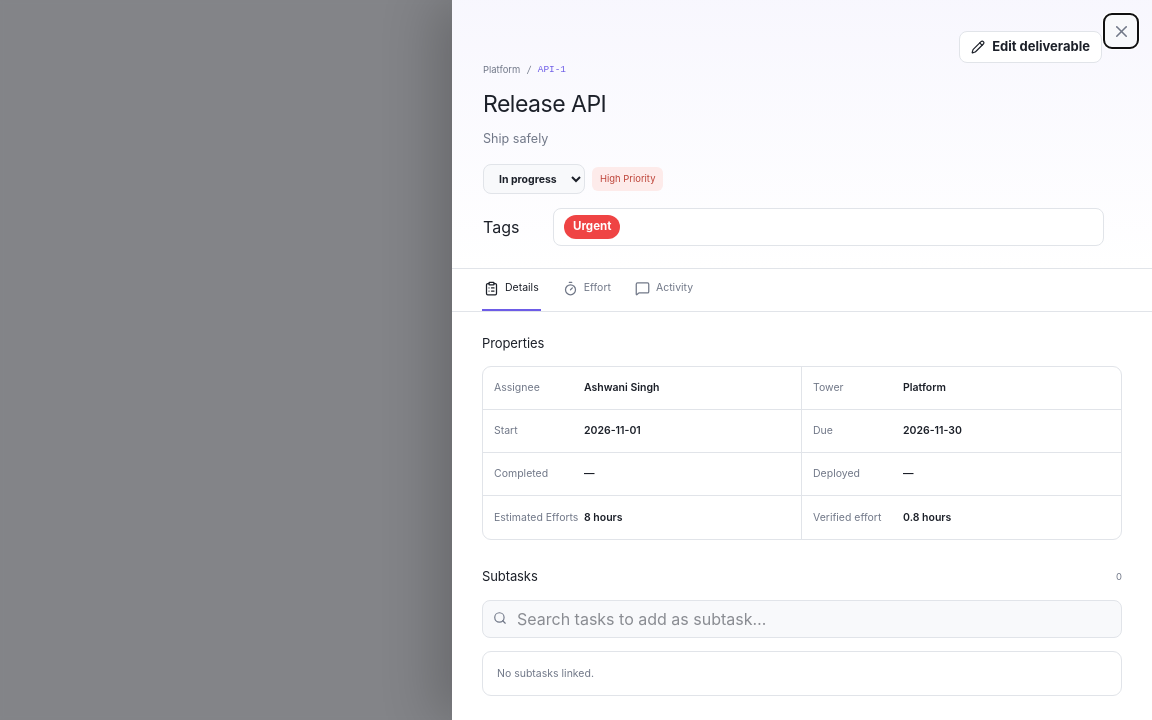
Test: deliverable details › shows verified work and searchable task relationships
Check: the heading "Subtasks" is shown, box [482, 567, 538, 586]
Check: the field named "Search subtasks" is shown, box [482, 600, 1122, 638]
Click the button "Effort": click(587, 289) [561, 268, 613, 310]
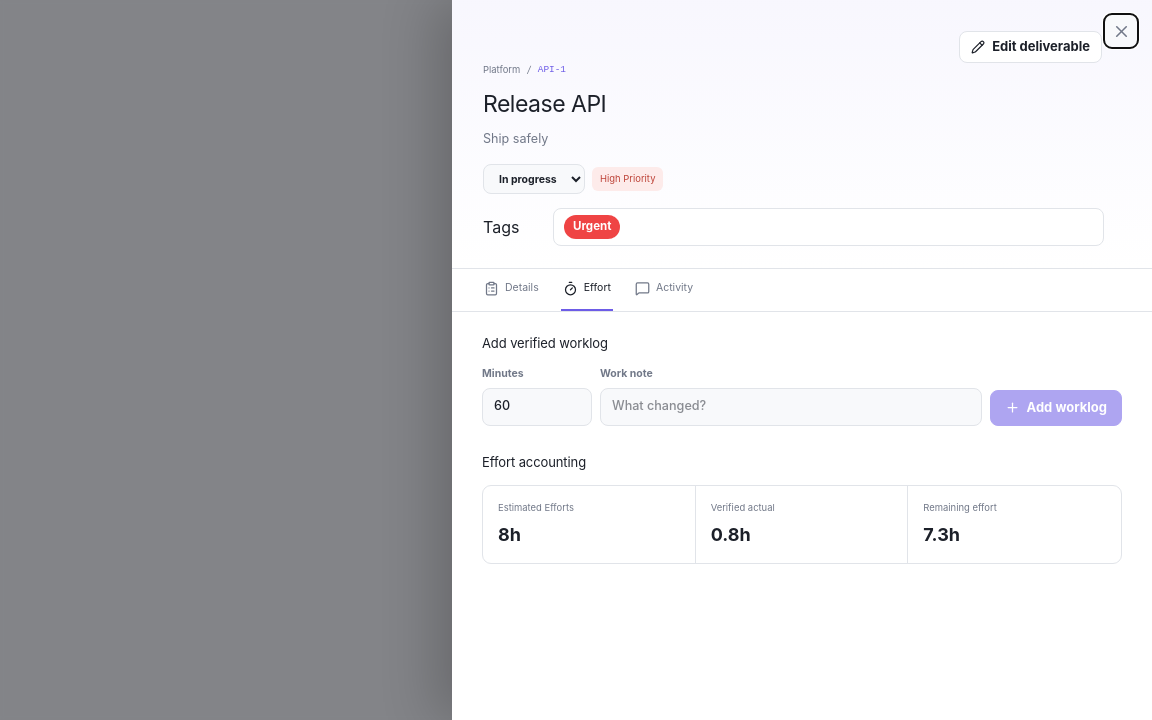
Check: the heading "Add verified worklog" is shown, box [482, 334, 608, 350]
